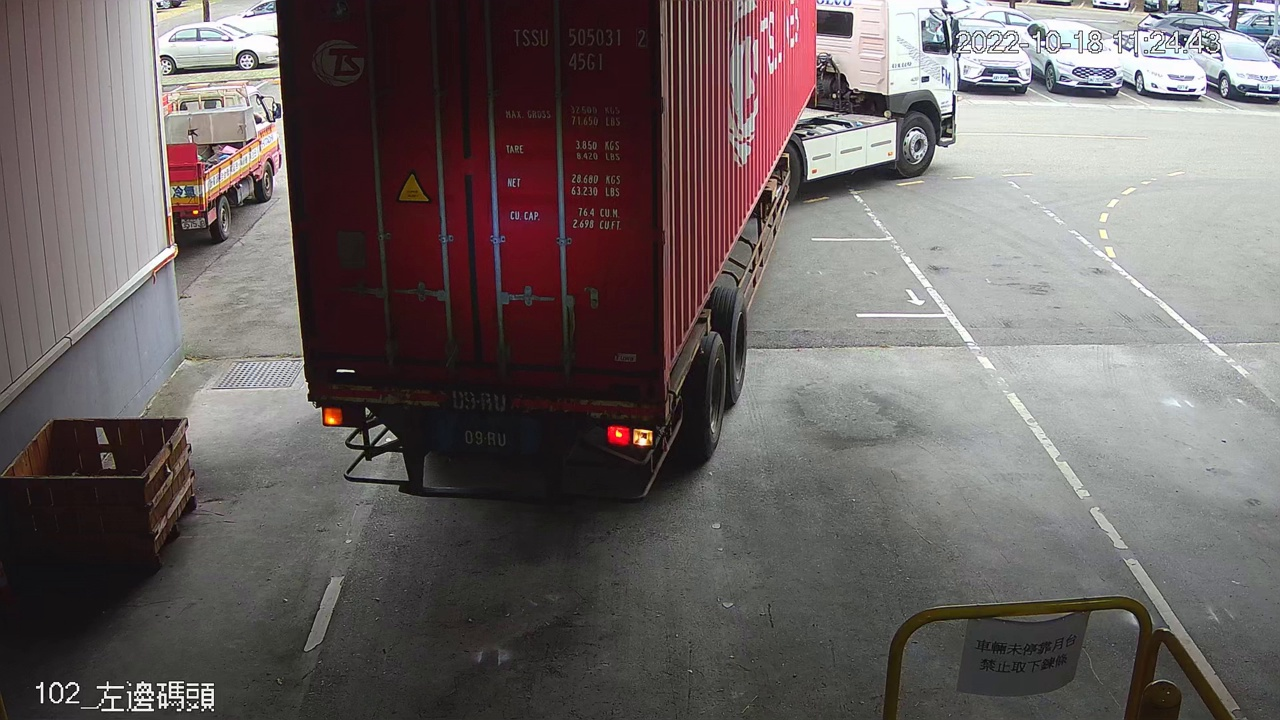container: (502, 22, 657, 77)
